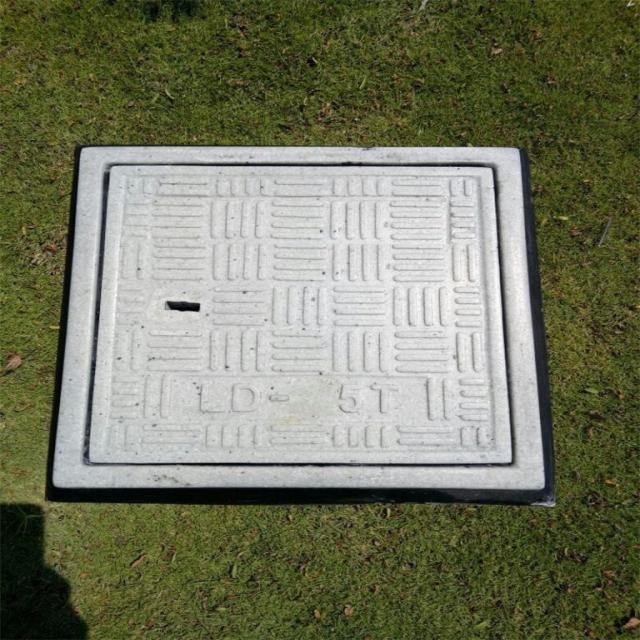manhole: (46, 146, 556, 508)
